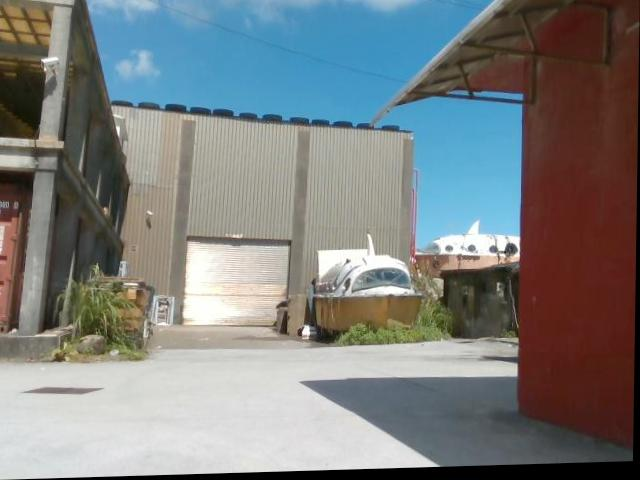pollute: (97, 261, 177, 354), (276, 293, 323, 344)
